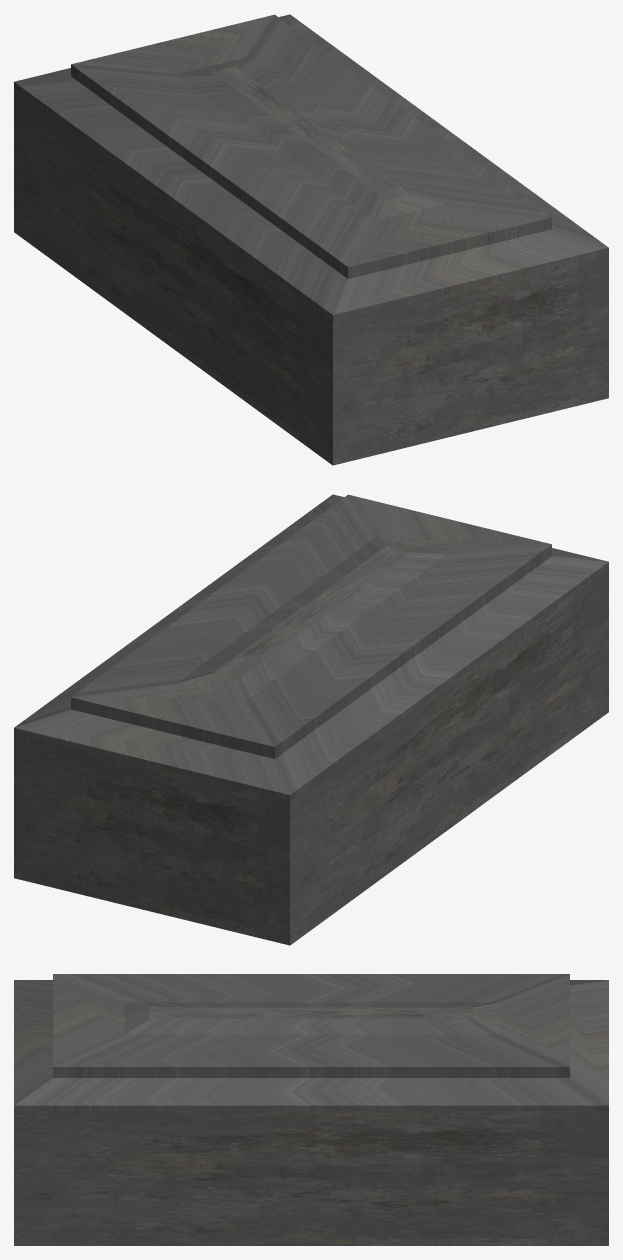
File: blokje.FBX
The picture shows the model from 3 angles, top to bottom: view 1: azimuth 30°, elevation 25°; view 2: azimuth 150°, elevation 25°; view 3: azimuth 270°, elevation 25°; orthographic projection. The views are drawn at different scales.
Visible parts, largest first — view 1: Box001; view 2: Box001; view 3: Box001.
Boxes of the visible parts, box(x1,y1,x2,y2) form: Box001: box(14, 14, 608, 465); Box001: box(14, 494, 608, 945); Box001: box(14, 974, 608, 1245).
Bounding box in the file's own units: 20 × 12.62 × 40.
